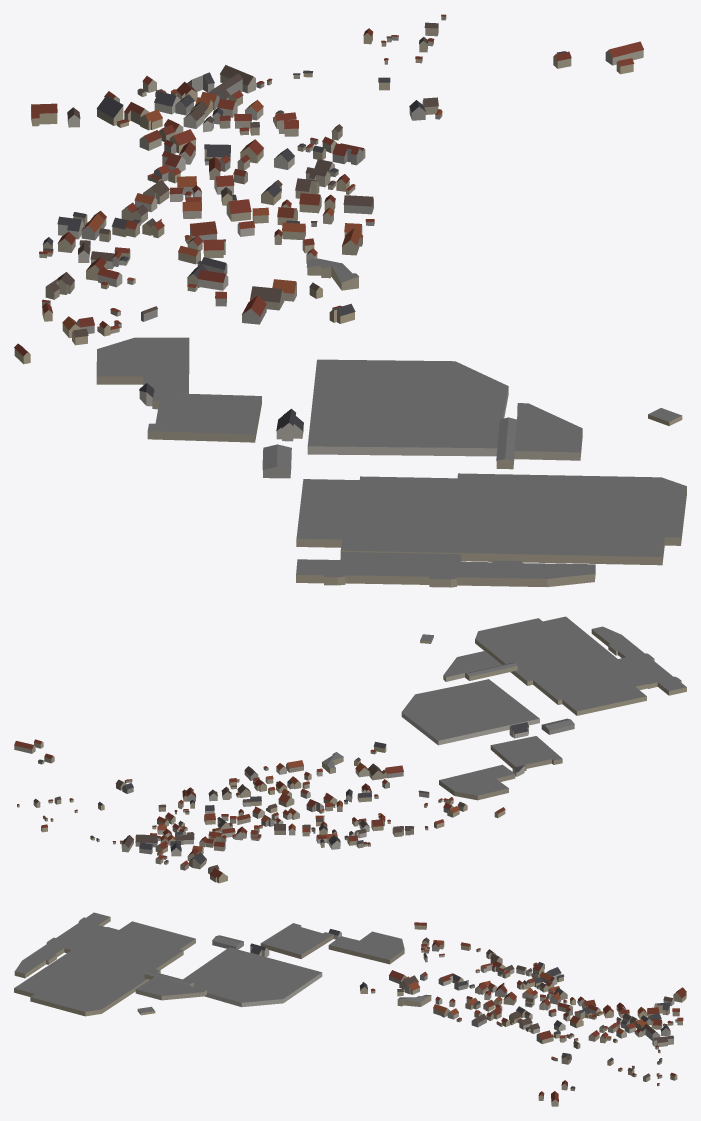
The picture shows the model from 3 angles, top to bottom: view 1: azimuth 30°, elevation 25°; view 2: azimuth 150°, elevation 25°; view 3: azimuth 270°, elevation 25°; orthographic projection. The views are drawn at different scales.
Visible parts, largest first — view 1: buildings; view 2: buildings; view 3: buildings.
Part boxes in pixels (x1,y1,x2,y2): buildings: [14, 14, 686, 587]; buildings: [14, 616, 686, 883]; buildings: [14, 912, 686, 1106].
Size of the model in its own units: 593 by 40.2 by 832.
